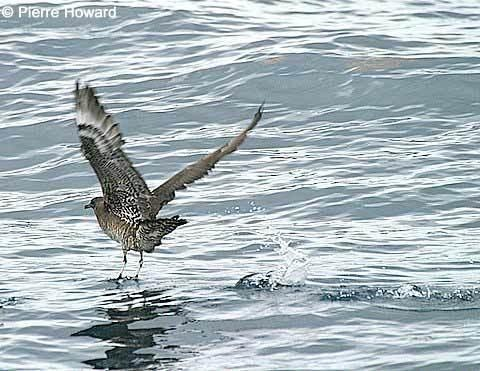bird: (67, 75, 264, 289)
